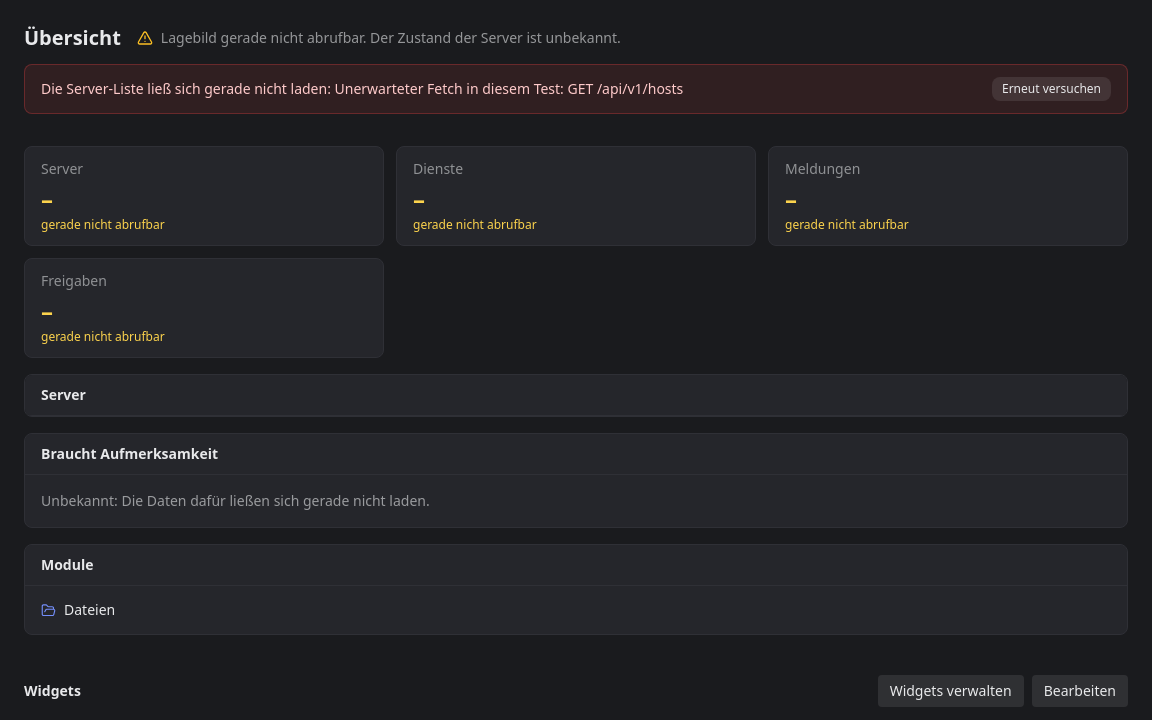
Test: DashboardPage: nicht eingerichtete Module › ohne Recht extensions.manage nur der Hinweis, kein Link
This screenshot has width=1152, height=720.
Click the button "Widgets verwalten". click: point(951, 691)
box: [878,675,1024,707]
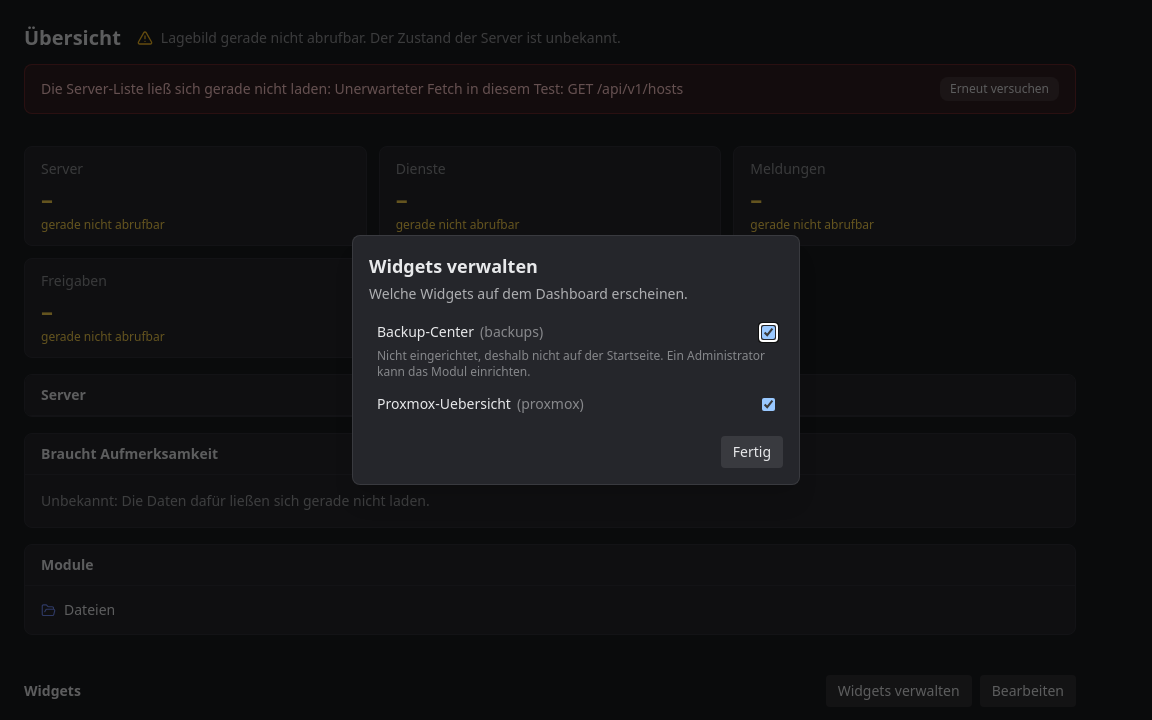
Check: the text with test id "widget-not-configured-backups:summary" shows "Administrator", box [377,347,765,380]
